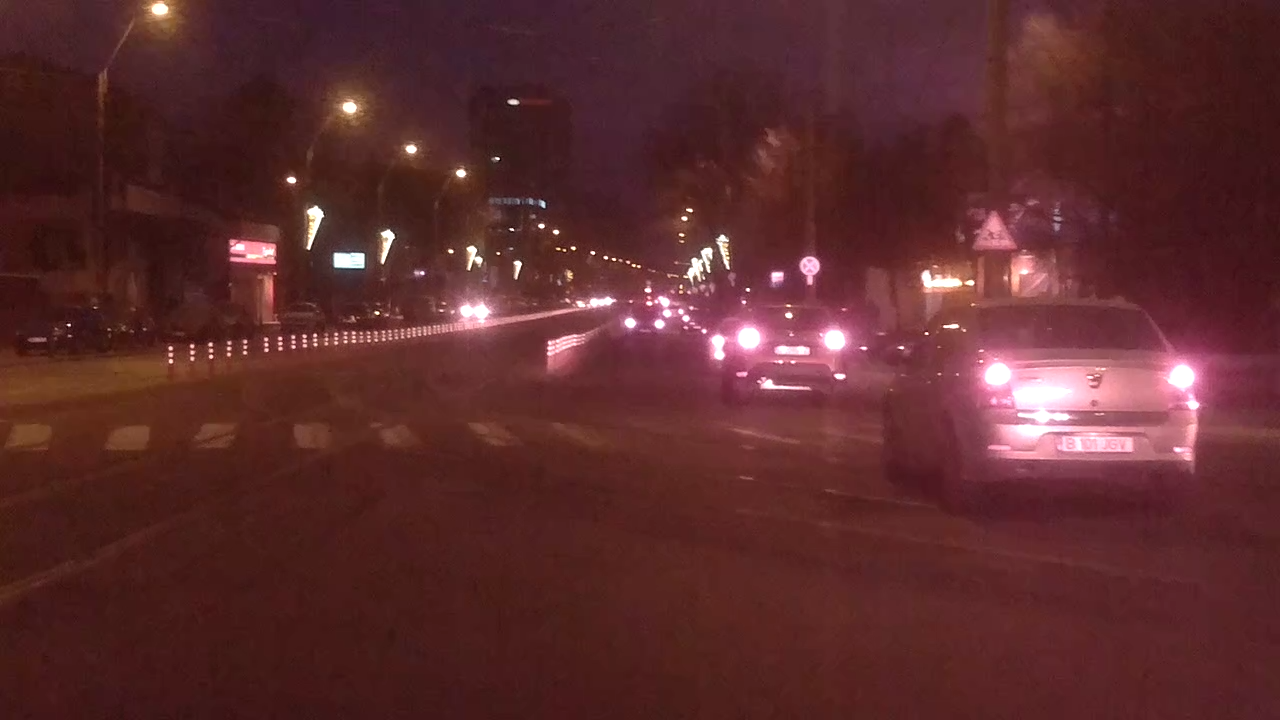license-plate: (1054, 433, 1138, 455)
